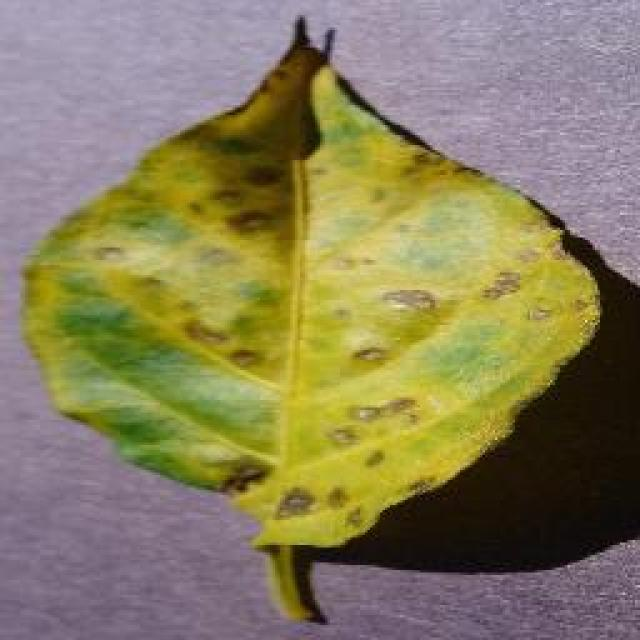Chilli_Bacterial_Spot: (15, 13, 605, 625), (345, 392, 420, 428), (340, 328, 395, 372), (220, 202, 278, 240), (215, 460, 267, 500), (178, 312, 232, 350), (378, 285, 438, 317), (477, 265, 525, 303), (272, 482, 318, 520), (322, 420, 362, 450), (222, 342, 262, 372), (348, 340, 388, 368), (90, 240, 130, 268), (320, 480, 352, 512), (522, 297, 558, 325), (358, 445, 388, 473)
